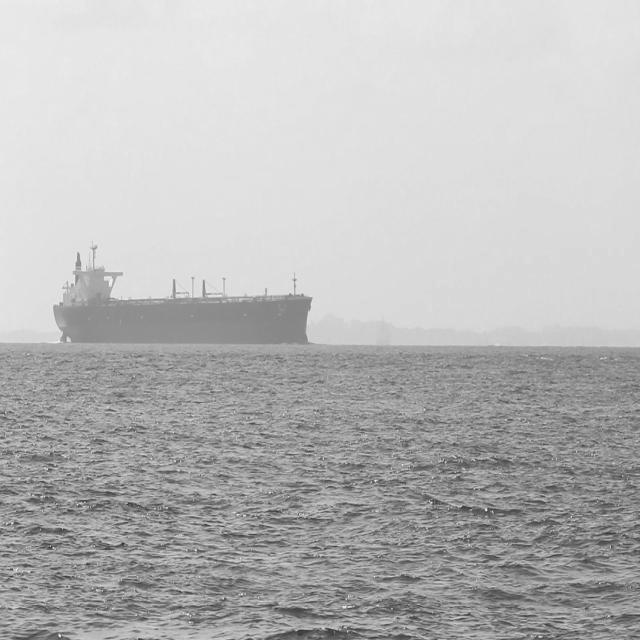ship: (56, 220, 316, 338)
